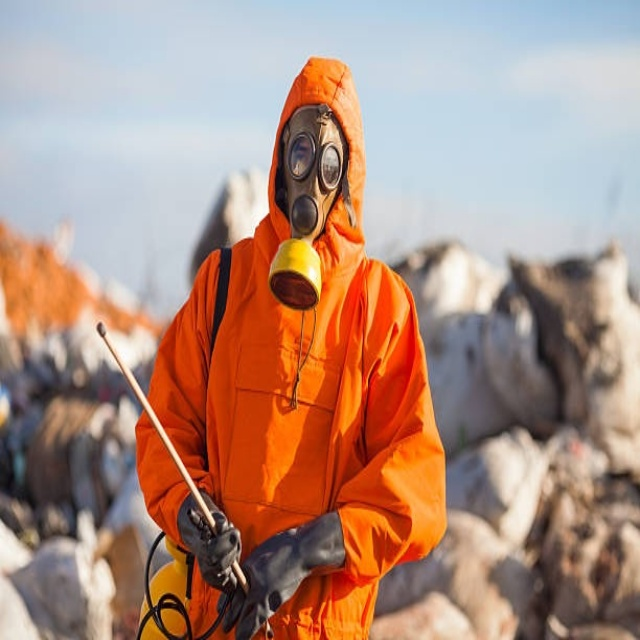Guantes: (213, 499, 352, 631), (177, 482, 242, 585)
Mascara: (265, 94, 349, 312)
